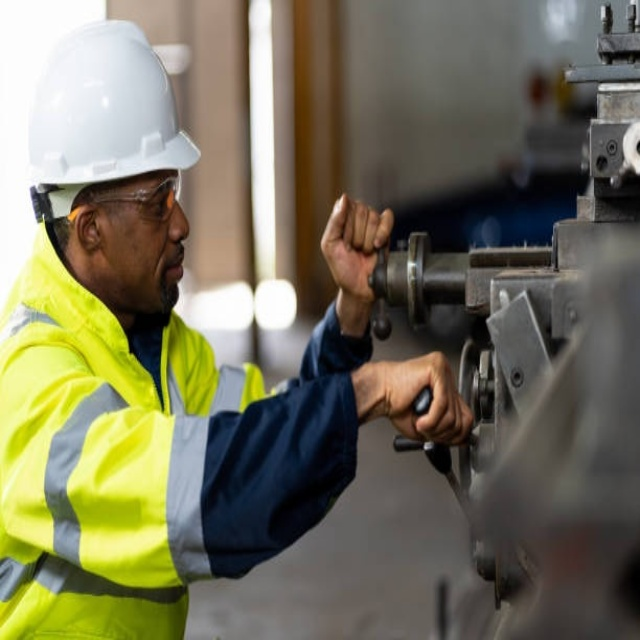Gafas: (65, 169, 182, 229)
Sin_guantes: (370, 351, 475, 449), (319, 191, 394, 306)
Sin_mascara: (141, 238, 188, 315)
